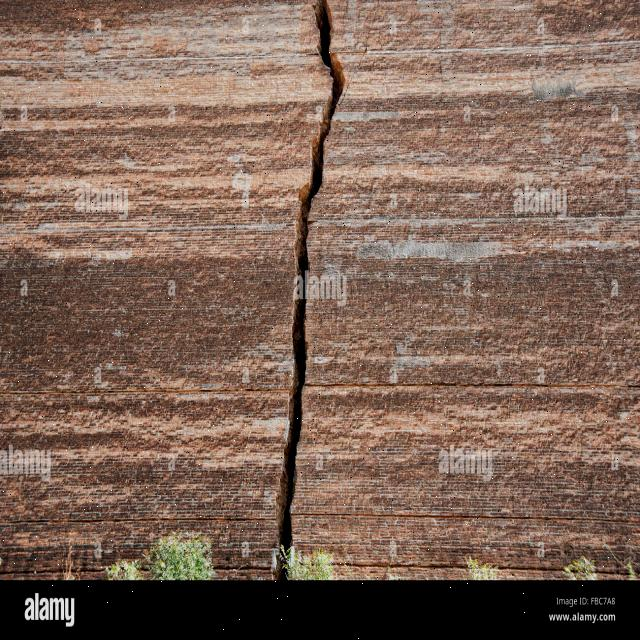crack: (272, 0, 347, 578), (2, 229, 632, 296), (5, 217, 628, 242), (296, 6, 346, 239), (0, 562, 317, 578), (351, 44, 639, 58), (2, 387, 279, 397)
dampens: (309, 48, 327, 60)
dampness: (333, 7, 640, 234), (2, 110, 262, 249)
vegetation: (529, 19, 584, 100), (143, 532, 217, 580), (104, 559, 144, 580)
